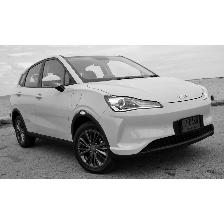EV: (11, 53, 217, 177)
